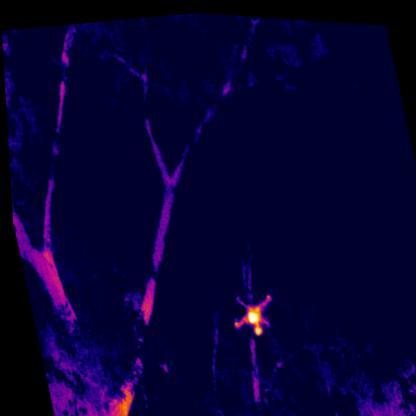drone: (223, 287, 274, 336)
